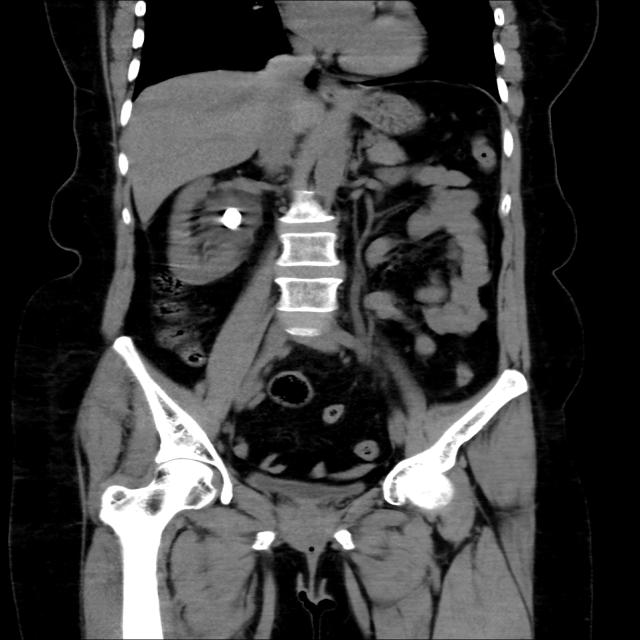kidneystone: (222, 208, 241, 229)
